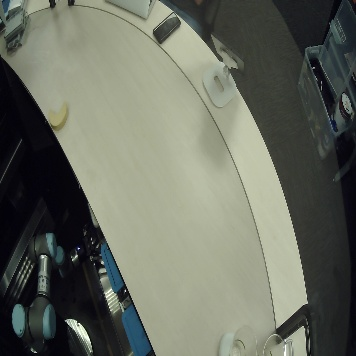empty_cup: (259, 329, 290, 356), (234, 325, 257, 355)
puck: (48, 102, 69, 130), (217, 331, 236, 356)
